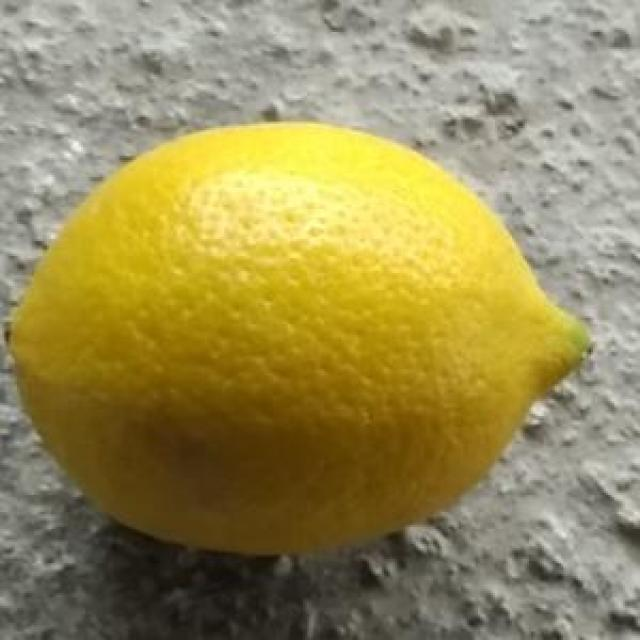lemon: (5, 120, 598, 559)
